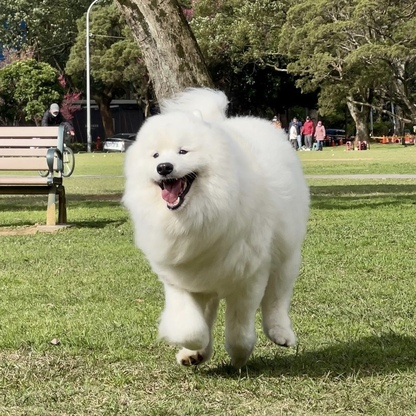samoyed: (118, 82, 314, 371)
